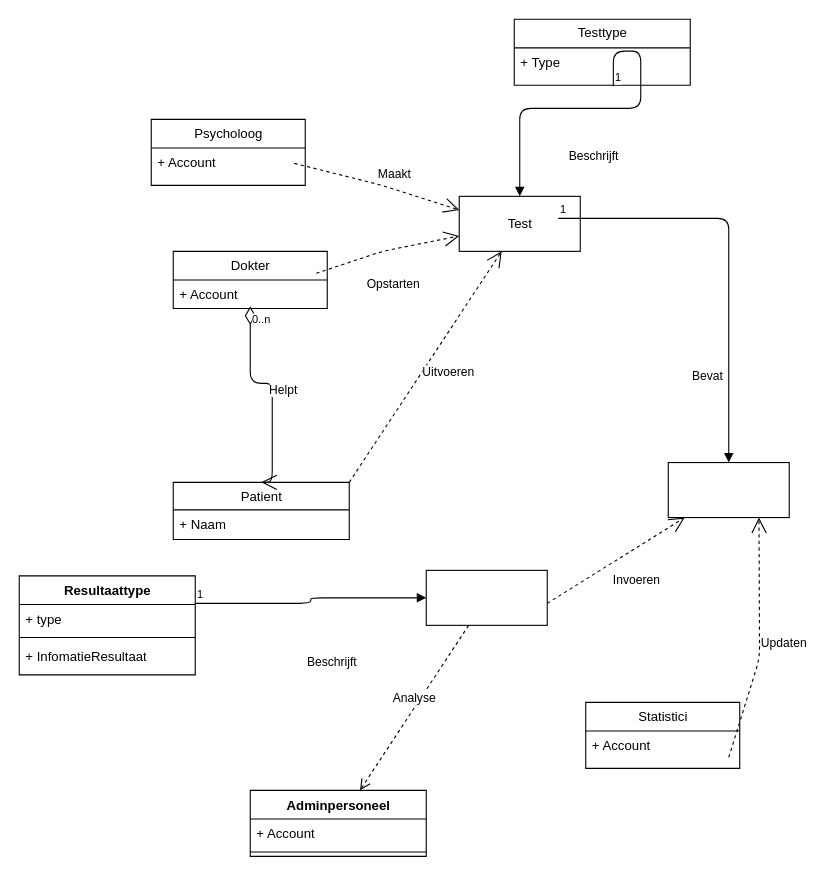
The diagram is 826 pixels wide and 876 high, and some of its shapes have lost their labels. The shapes that lost their labels are listed below. From the top down, each one's centre as x and y in pixels, then its label:
At (x=728, y=489): "«interface» Systeem".
At (x=486, y=597): "Resultaat".
